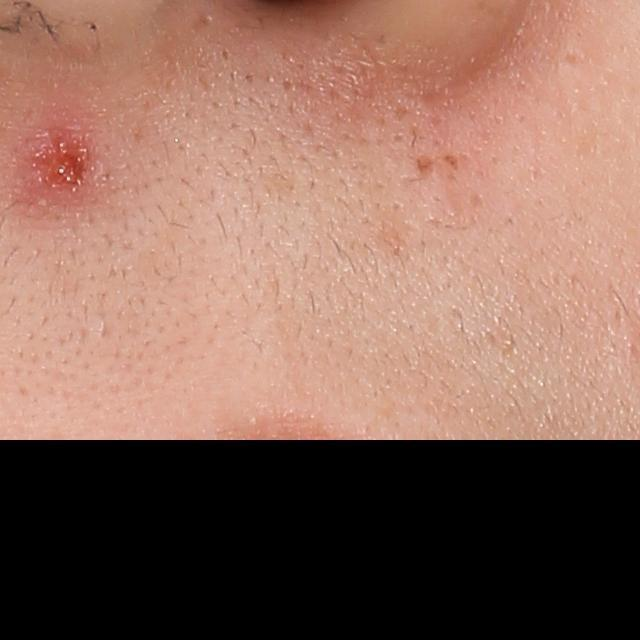atrophic_scar: (415, 154, 434, 177), (444, 154, 463, 170)
papule: (37, 139, 92, 194)
